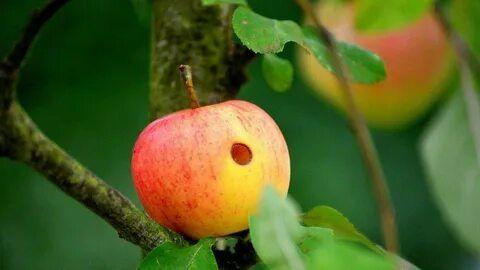Apple: (130, 102, 292, 240)
